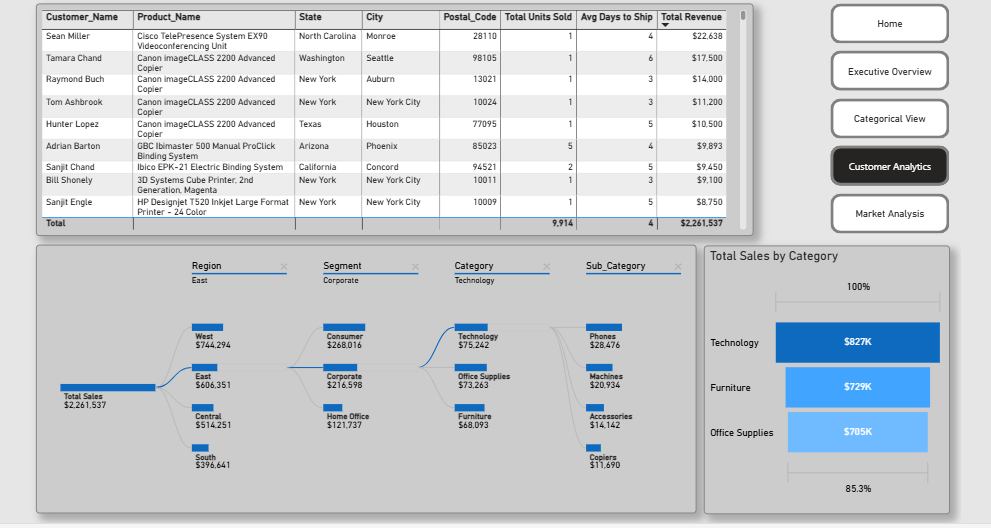

The dashboard page shown, as its layout file describes it:
{"tool":"powerbi","page":{"name":"Customer Analytics","canvas":[1280,720],"ordinal":3},"visuals":[{"type":"tableEx","fields":{"Values":["customers_dim.Customer_Name","products_dim.Product_Name","customers_dim.State","customers_dim.City","customers_dim.Postal_Code","order_details_fact.Total Units Sold","orders_dim.Avg Days to Ship","order_details_fact.Total Revenue"]},"box":[12,8.4,982.6,319.1],"z":0},{"type":"decompositionTreeVisual","fields":{"ExplainBy":["customers_dim.Region","customers_dim.Segment","products_dim.Category","products_dim.Sub_Category"],"Analyze":["order_details_fact.Total Revenue"]},"box":[11.8,338.9,905.3,368.5],"z":1000},{"type":"funnel","fields":{"Y":["order_details_fact.Total Revenue"],"Category":["products_dim.Category"]},"box":[926.6,340.1,337.7,368.5],"z":2000},{"type":"pageNavigator","box":[1100.8,8.3,163.5,318.7],"z":3000}]}

Visuals, with their boxes on the page's 1280x720 design canvas (x1, y1, x2, y2). These are canvas units, not pixel positions in the 991x528 screenshot, which may show the page scaled, cropped or inside an application window:
tableEx - customers_dim.Customer_Name x products_dim.Product_Name: (12,8,995,328)
decompositionTreeVisual - customers_dim.Region x customers_dim.Segment: (12,339,917,707)
funnel - order_details_fact.Total Revenue x products_dim.Category: (927,340,1264,709)
pageNavigator: (1101,8,1264,327)
